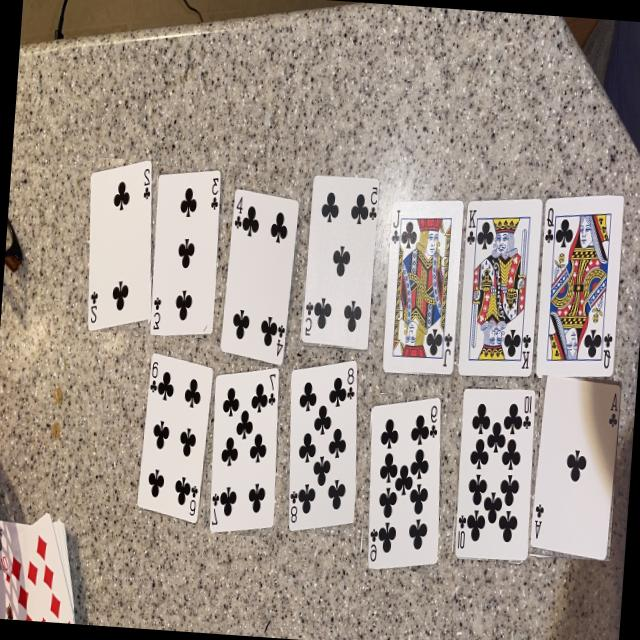10 of clubs: (453, 389, 533, 562)
10 of diamonds: (0, 514, 70, 622)
2 of clubs: (86, 160, 150, 331)
3 of clubs: (148, 170, 219, 336)
4 of clubs: (219, 189, 297, 365)
5 of clubs: (300, 175, 377, 348)
6 of clubs: (136, 353, 212, 523)
7 of clubs: (207, 368, 276, 532)
8 of clubs: (285, 360, 354, 531)
9 of clubs: (365, 397, 438, 569)
Ace of clubs: (529, 376, 619, 560)
Jack of clubs: (381, 200, 462, 375)
King of clubs: (456, 198, 541, 377)
Queen of clubs: (534, 195, 622, 378)
